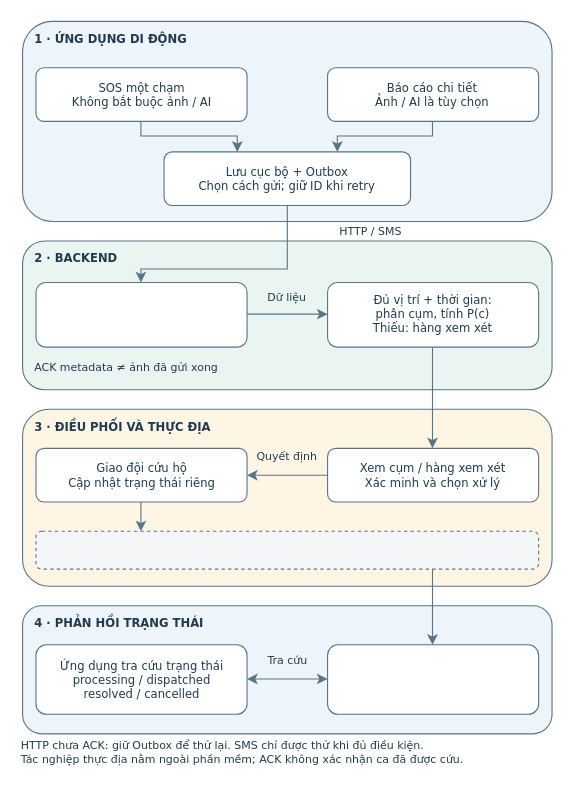
This 573x788 diagram has some shape labels left out. The shapes that lost their labels are listed below. From the top down, each one's centre as x and y in pixels, then its label:
At pixel 141 314: "Tiếp nhận HTTP / SMS Kiểm tra theo từng kênh Lưu mới hoặc gộp báo cáo".
At pixel 287 549: "Tác nghiệp thực địa; điều phối viên ghi nhận kết quả".
At pixel 432 679: "Ghi trạng thái + nhật ký Ca chưa kết thúc: tiếp tục Ca kết thúc: giữ kết quả".
